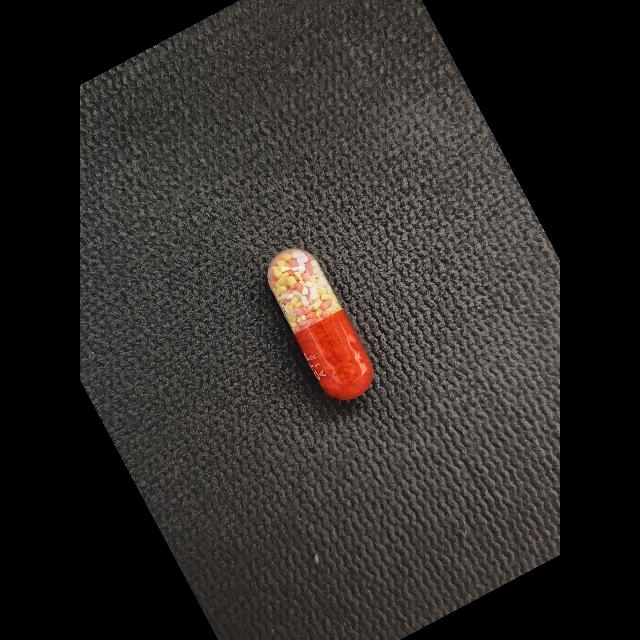Intact Capsule: (267, 249, 374, 400)
